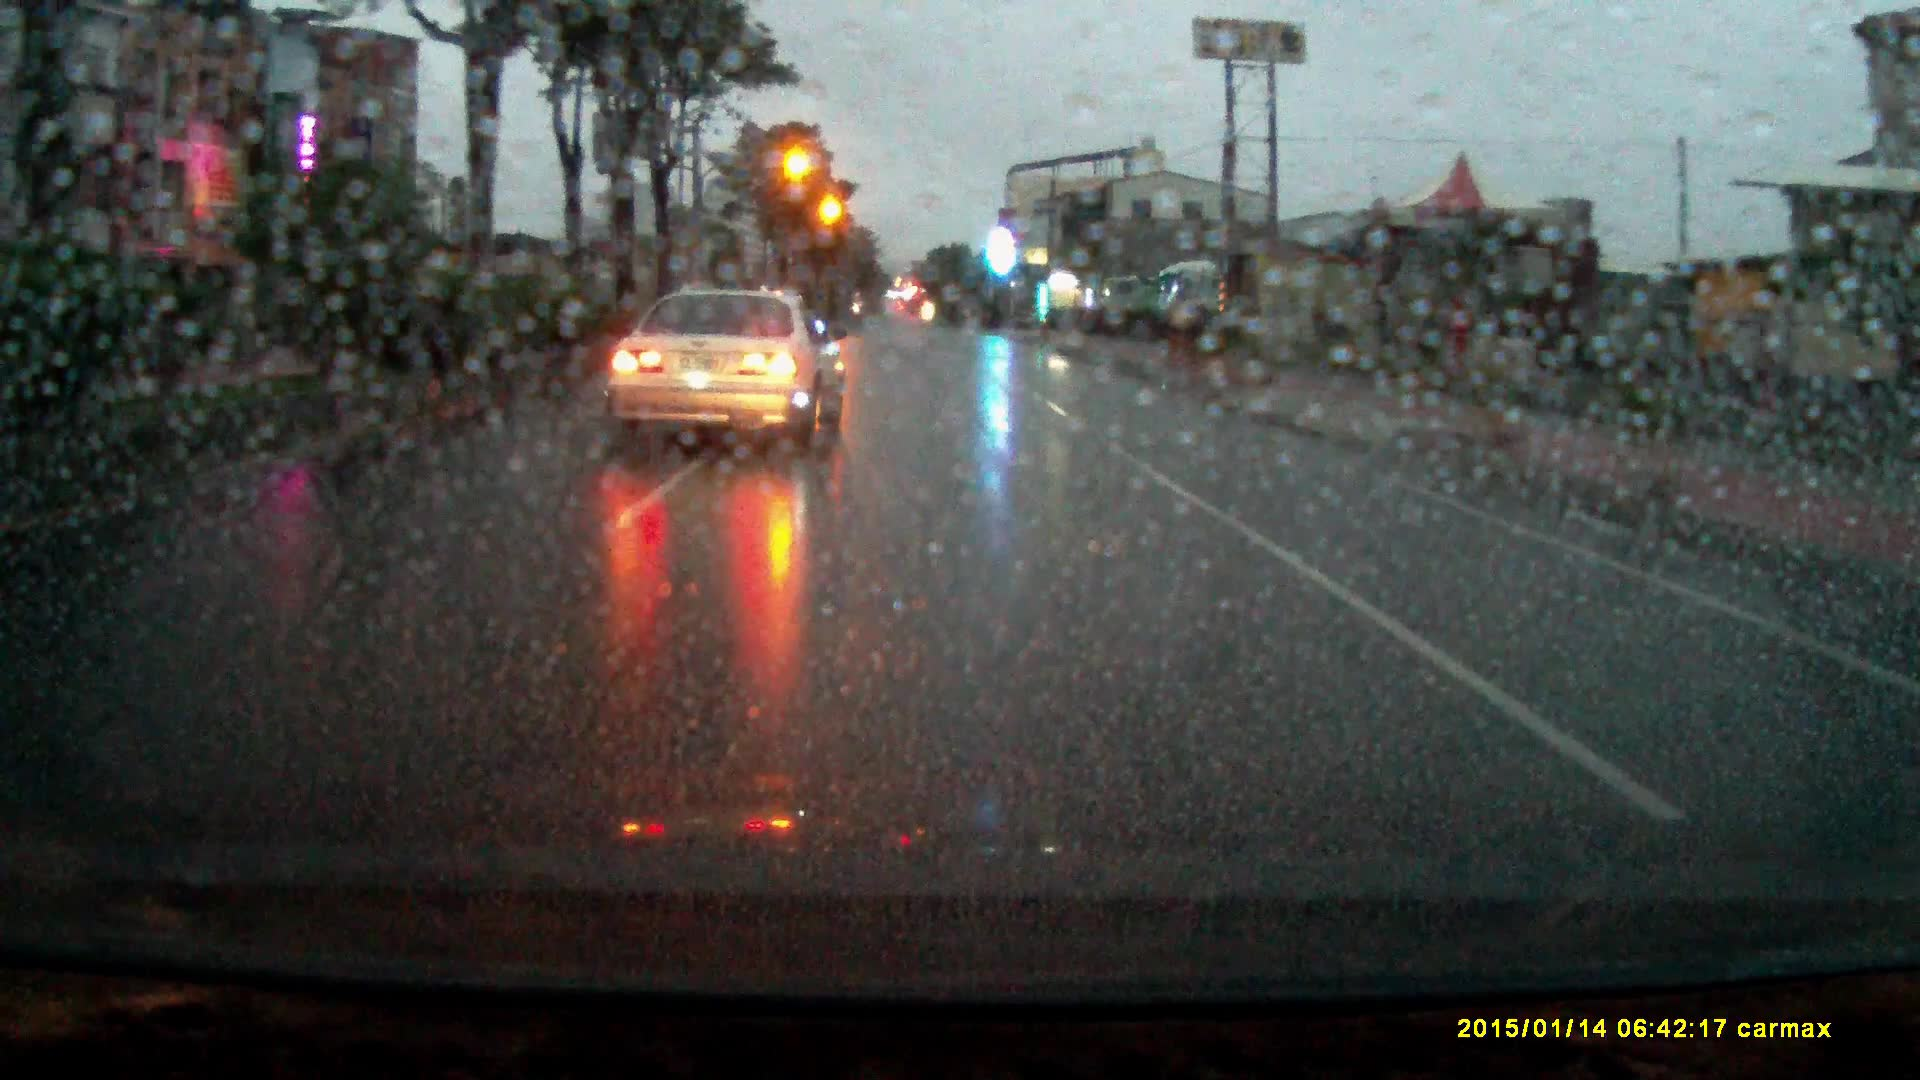vehicle: (601, 287, 852, 458), (1160, 261, 1232, 336), (1098, 276, 1149, 324)
